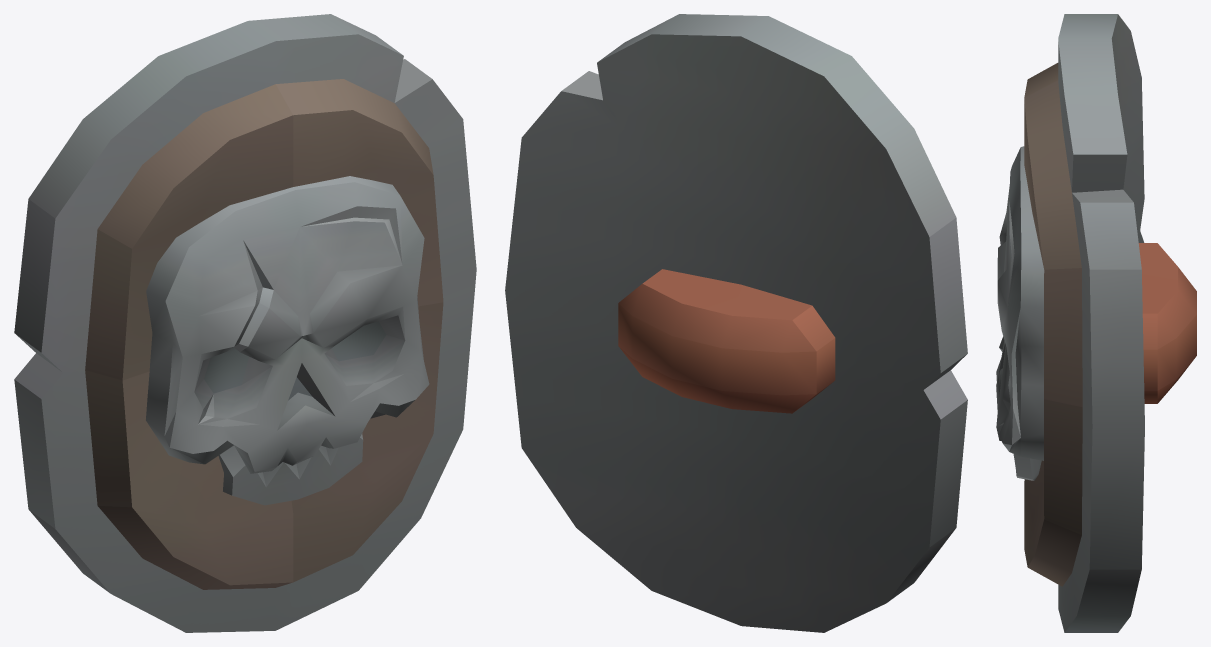
The model's file is shield.glb.
3 renders of one model, left to right at view 1: azimuth 30°, elevation 25°; view 2: azimuth 150°, elevation 25°; view 3: azimuth 270°, elevation 25°, orthographic. The views are drawn at different scales.
Visible parts, largest first — view 1: Skeleton_Shield_Large_A; view 2: Skeleton_Shield_Large_A; view 3: Skeleton_Shield_Large_A.
Part boxes in pixels (left/top/right/bottom): Skeleton_Shield_Large_A: left=14, top=14, right=476, bottom=632; Skeleton_Shield_Large_A: left=505, top=14, right=967, bottom=632; Skeleton_Shield_Large_A: left=996, top=14, right=1196, bottom=632.
Size of the model in its own units: 0.8771 by 1.13 by 0.3625.
Materials: 1 (1 with a texture image).
